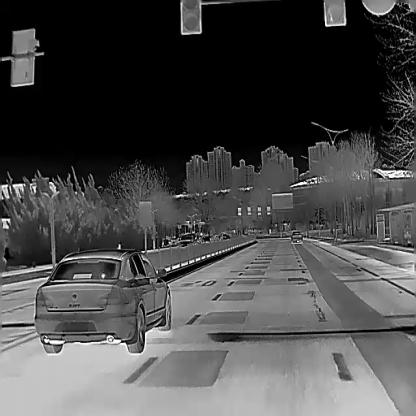car: (31, 246, 171, 352), (179, 232, 195, 247), (289, 229, 304, 242), (200, 234, 211, 243)
